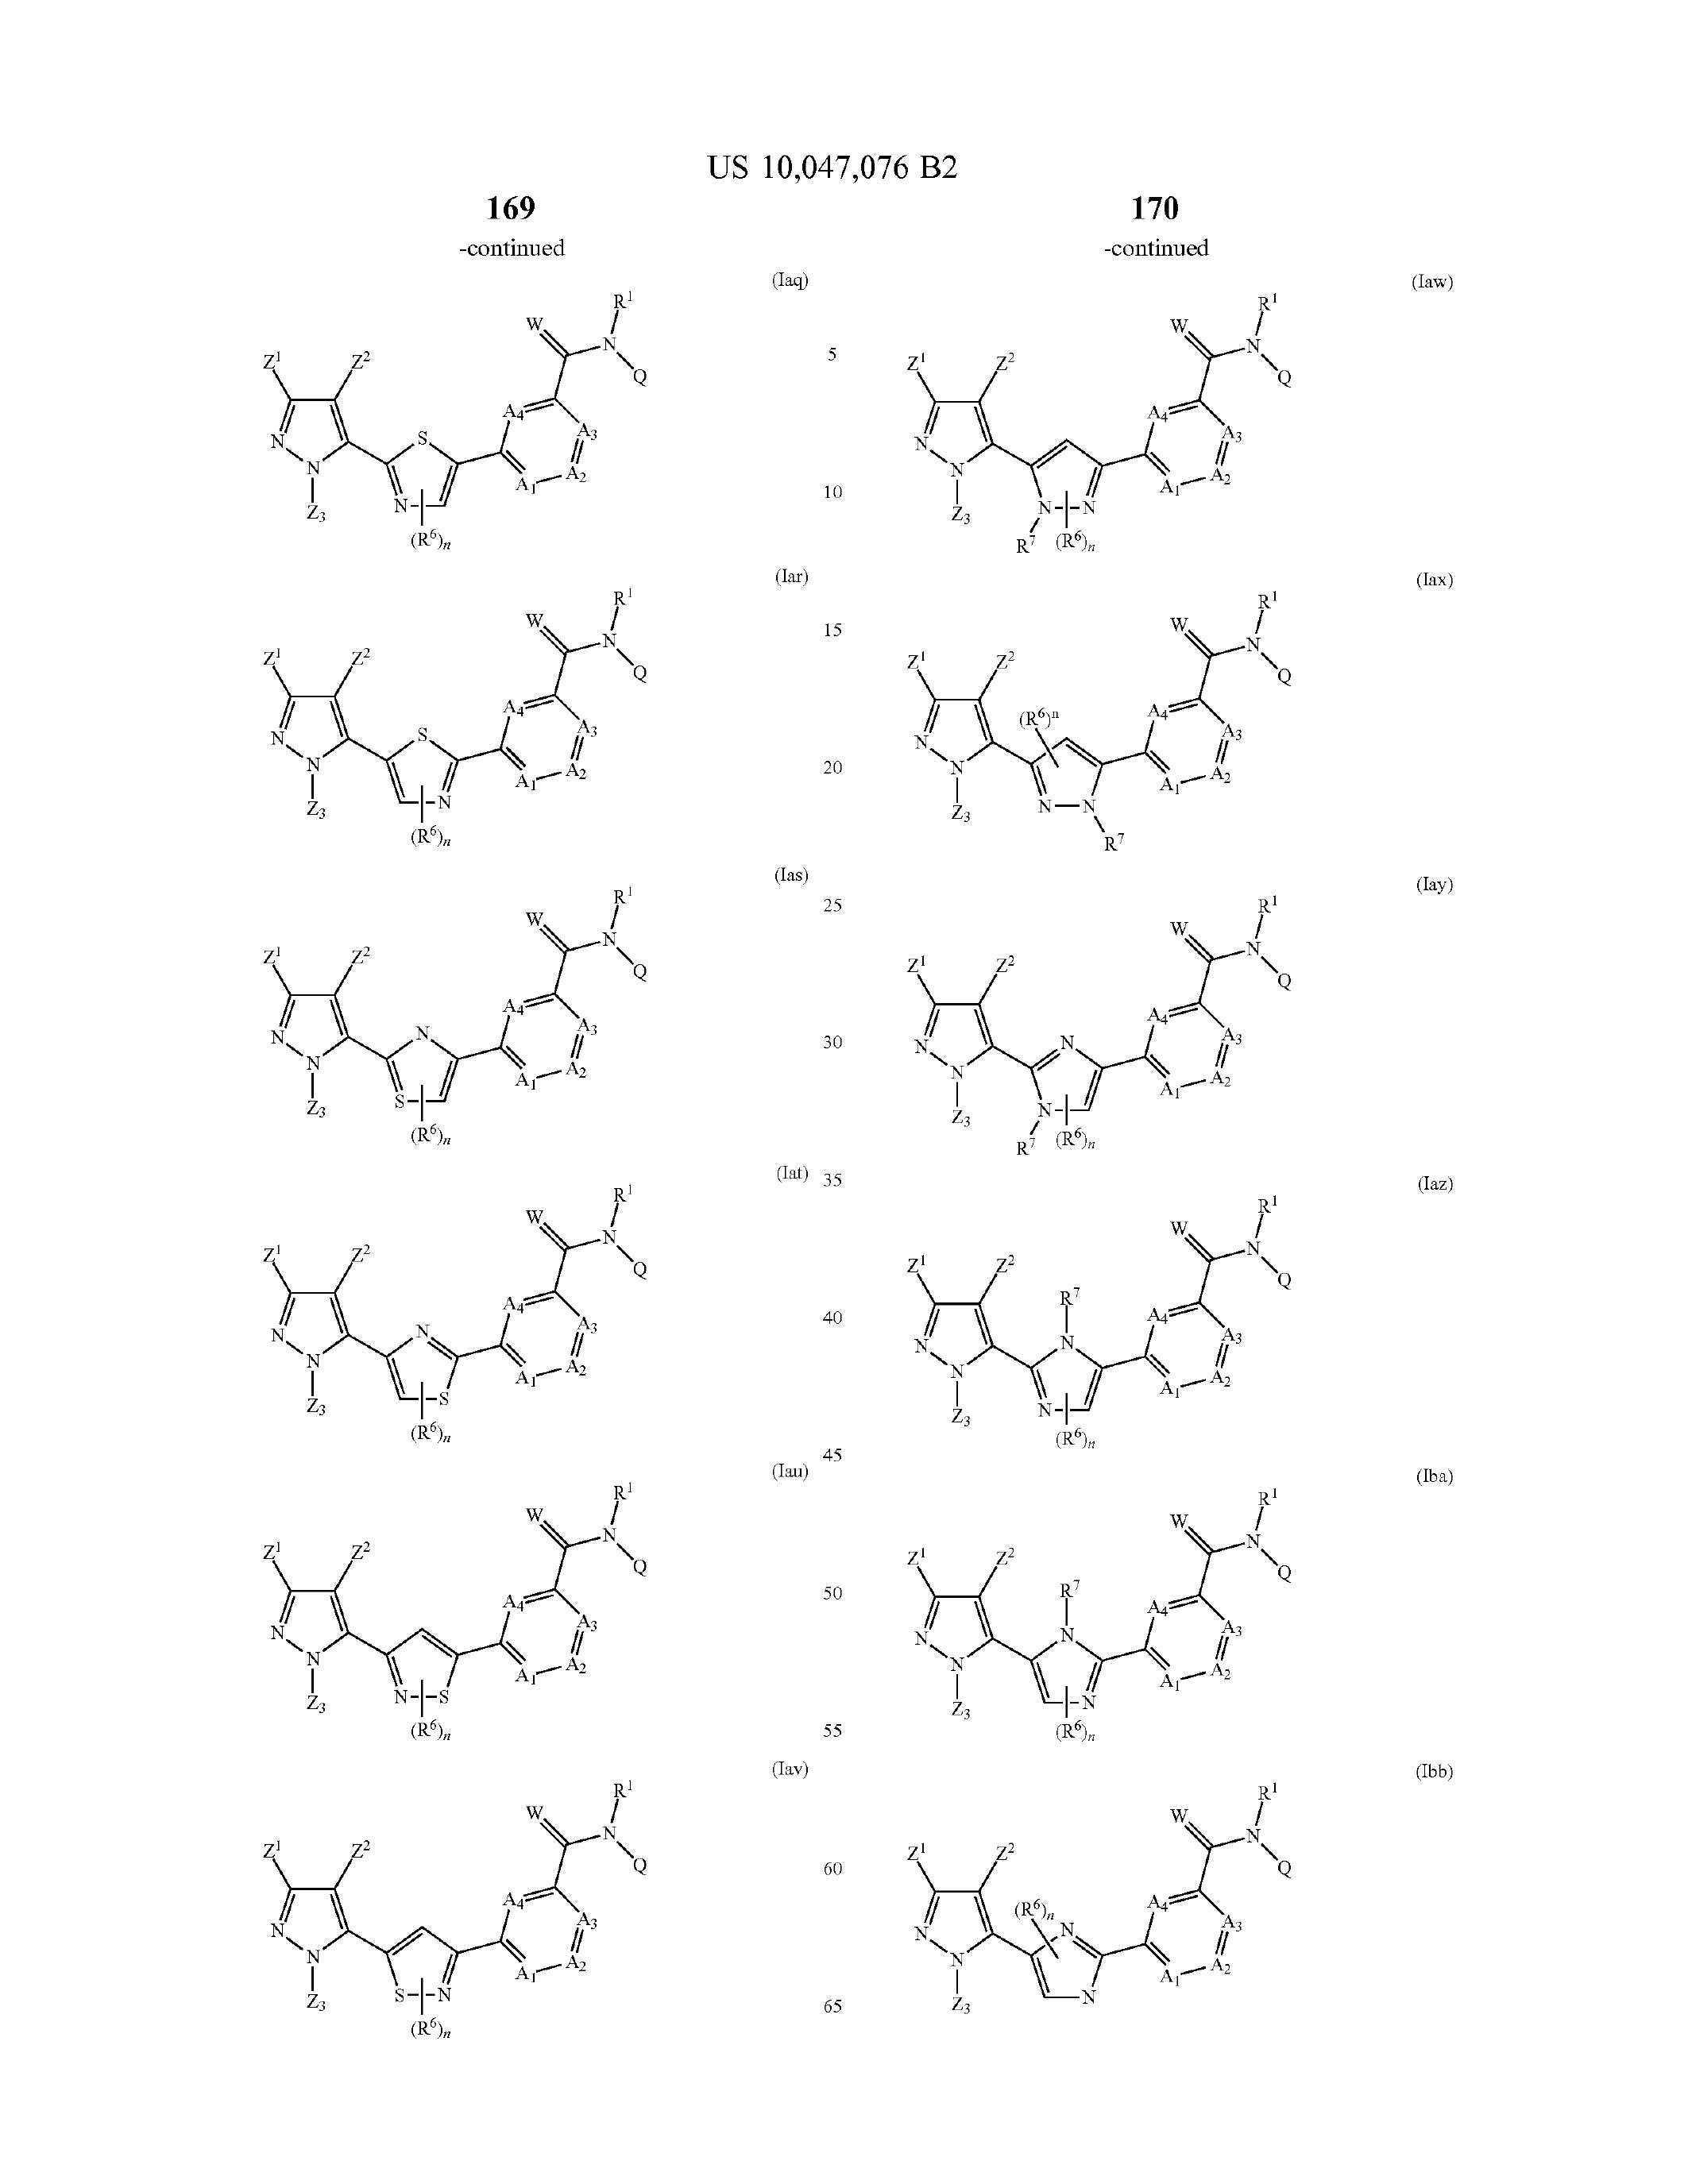relevant-structures: (167, 1431, 704, 2056)
